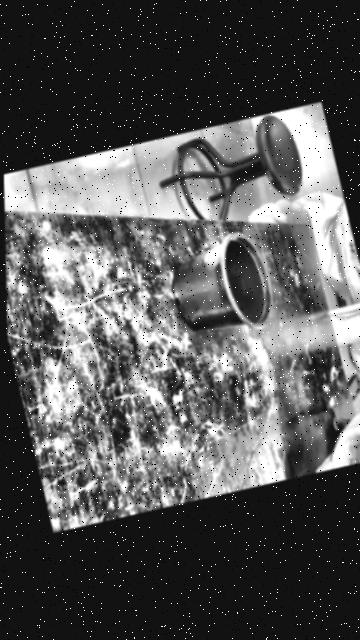pot: (163, 230, 277, 344)
